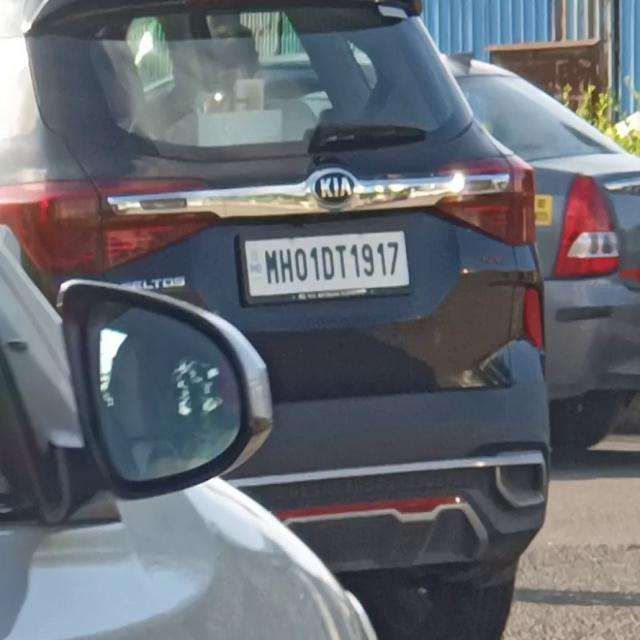Plate: (245, 228, 410, 298)
